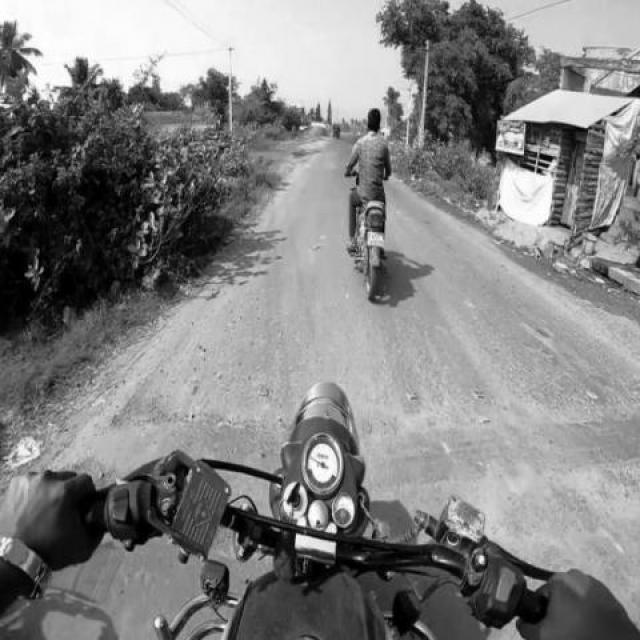Pothole: (530, 528, 640, 580), (92, 548, 188, 600)
Unmarked Bump: (361, 421, 640, 478), (74, 414, 274, 476)
